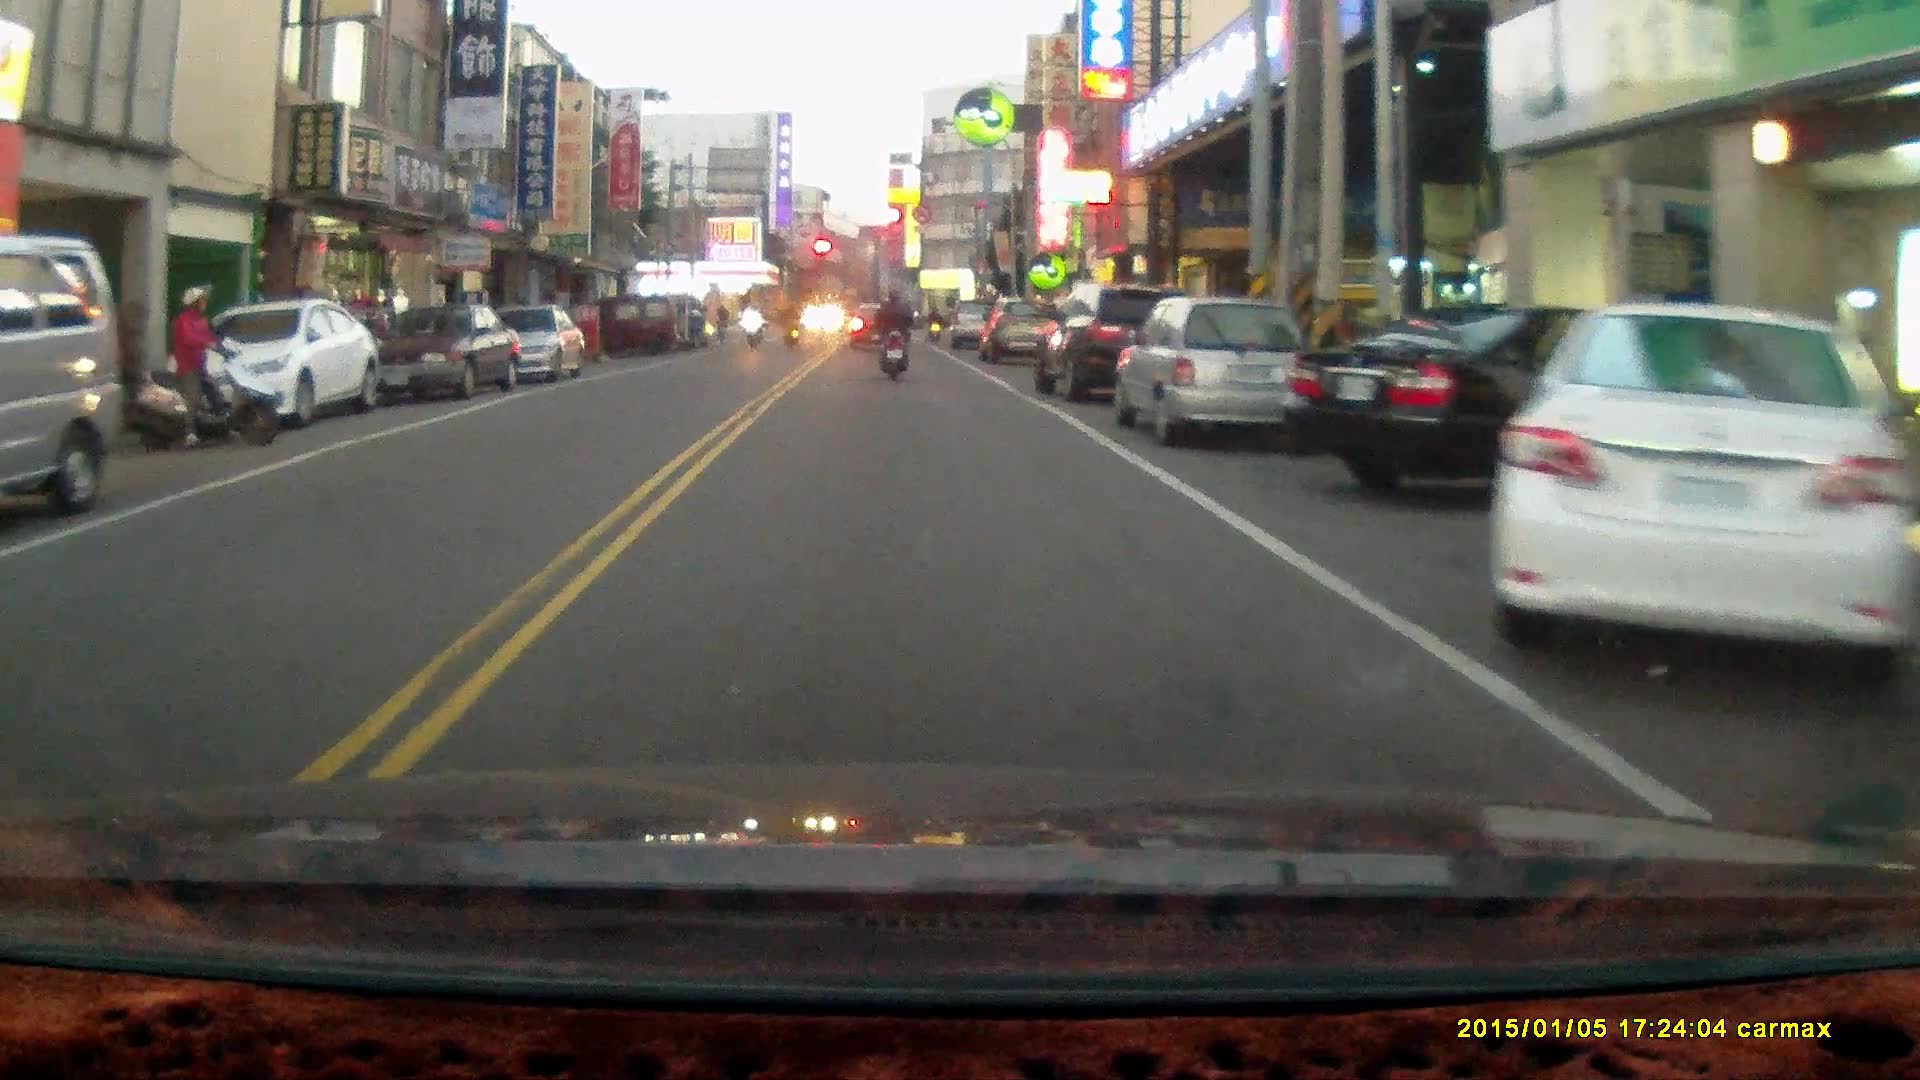rider: (125, 280, 275, 446), (871, 281, 914, 381), (739, 299, 765, 349)
vehicle: (1497, 296, 1893, 665), (1290, 299, 1805, 510), (1, 233, 123, 515), (1118, 292, 1321, 437), (163, 291, 377, 424), (1032, 282, 1200, 402), (358, 299, 520, 397), (463, 297, 586, 381)
